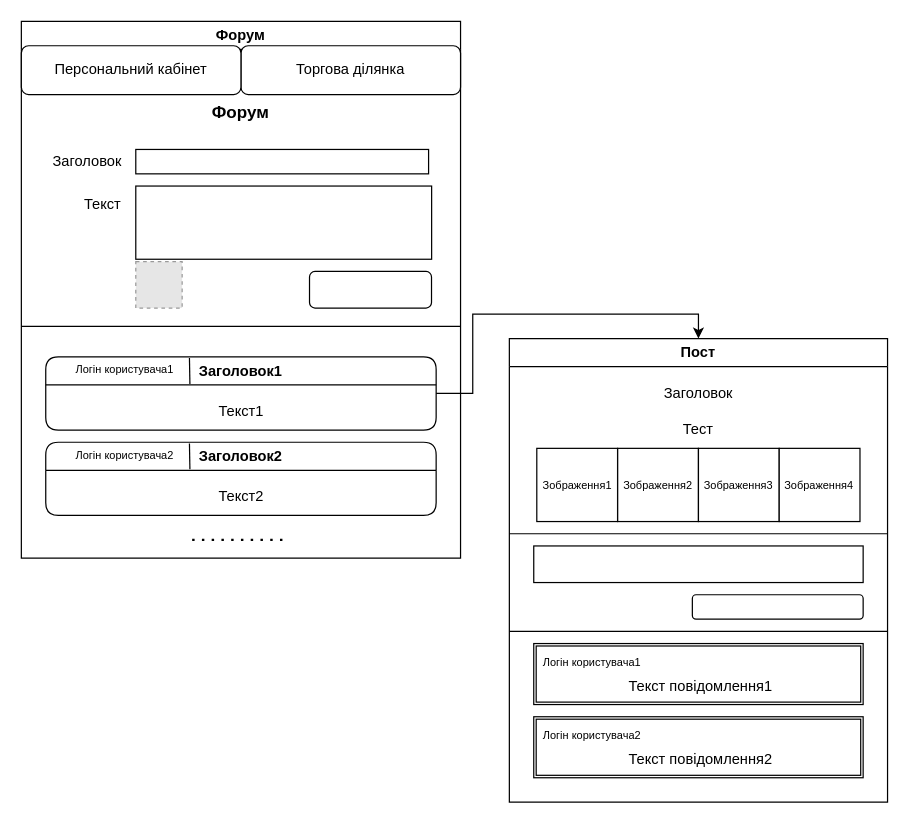
Some shapes in this 910 by 824 pixel diagram are drawn without their labels. Grey dashed boxes stand in for pictures. The centre of each missing label's shape, as x and y in pixels:
"Залишити повідомлення" belongs at point (777, 606).
"Опублікувати" belongs at point (370, 289).
